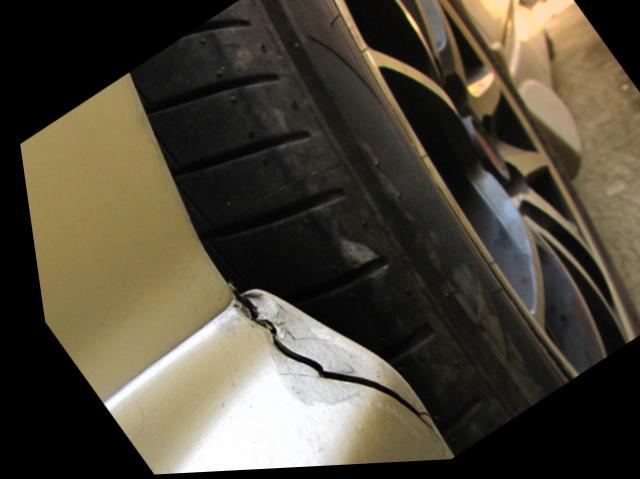crack: (227, 297, 421, 436)
